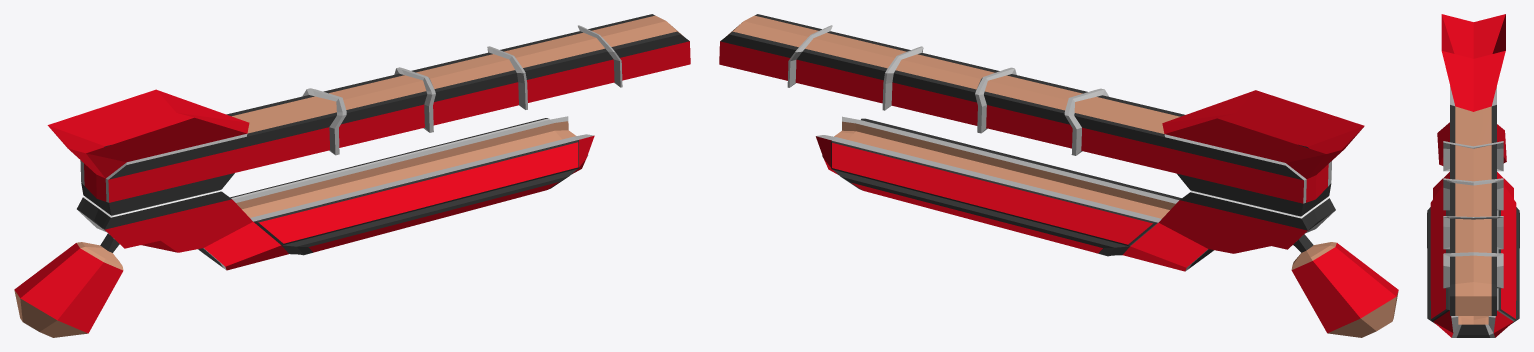
Rendered from GunUpg.fbx.
3 renders of one model, left to right at view 1: azimuth 30°, elevation 25°; view 2: azimuth 150°, elevation 25°; view 3: azimuth 270°, elevation 25°, orthographic. The views are drawn at different scales.
Visible parts, largest first — view 1: WUPGSP; view 2: WUPGSP; view 3: WUPGSP.
Part boxes in pixels (<box>): WUPGSP: <box>14,14,690,337</box>; WUPGSP: <box>719,14,1398,337</box>; WUPGSP: <box>1427,14,1519,337</box>.
Size of the model in its own units: 139 by 40.36 by 20.34.
